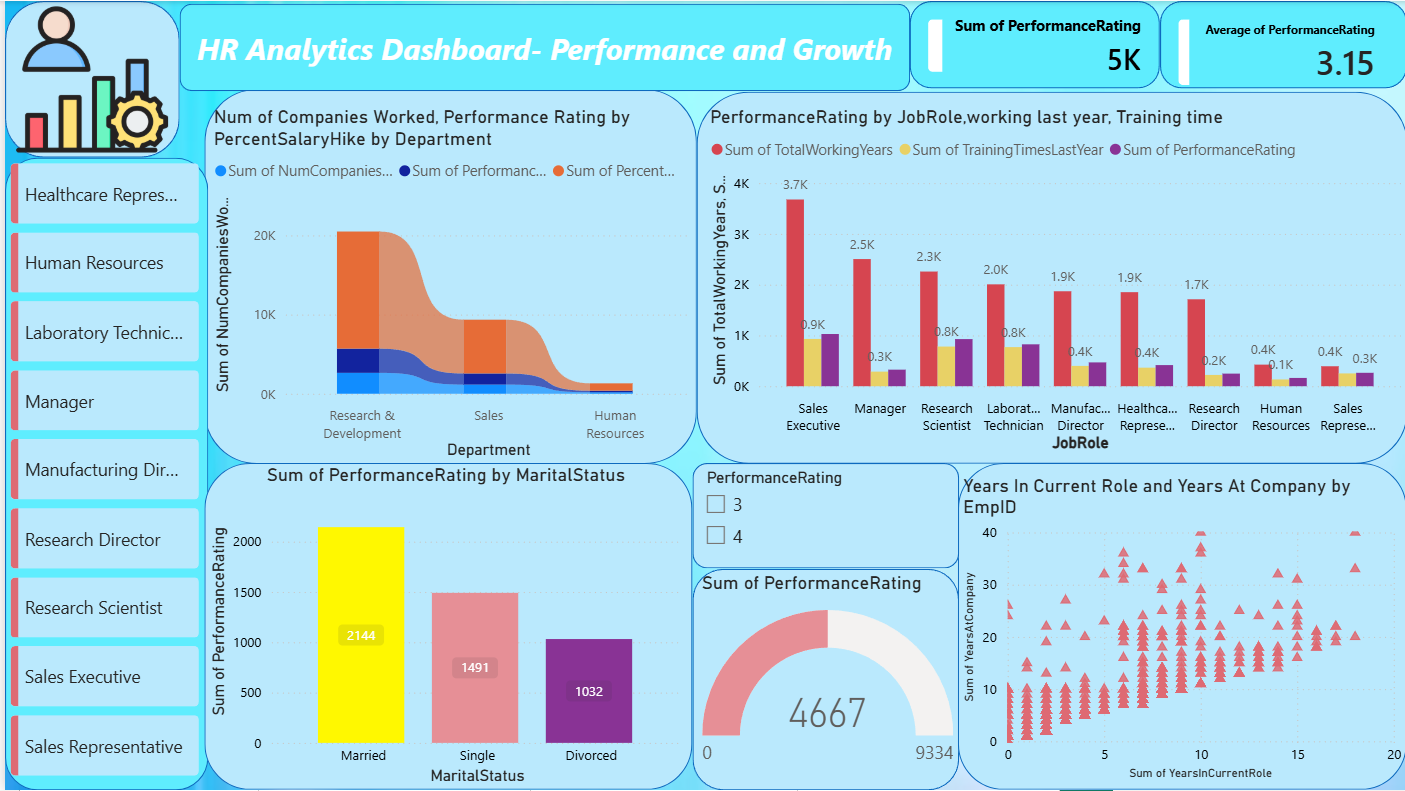

This screenshot's page, from the dashboard's own definition file:
{"tool":"powerbi","page":{"name":"Performamance and Growth","canvas":[1280,720],"ordinal":2},"visuals":[{"type":"shape","box":[181.5,79.8,449.7,342.4],"z":0},{"type":"shape","box":[627.1,518.5,243.4,202.2],"z":1000},{"type":"shape","box":[0,143,185.7,577.6],"z":2000},{"type":"shape","box":[159.5,2.8,667,79.8],"z":3000},{"type":"shape","box":[0,0,159.5,143],"z":4000},{"type":"shape","box":[181.5,422.2,445.6,298.4],"z":5000},{"type":"shape","box":[826.5,0,228.3,79.8],"z":6000},{"type":"image","box":[0,0,159.5,143],"z":7000},{"type":"clusteredColumnChart","fields":{"Y":["Sum(HR_Analytics.PerformanceRating)"],"Category":["HR_Analytics.MaritalStatus"]},"box":[181.5,422.2,441.5,298.4],"z":8000},{"type":"shape","box":[1054.8,0,225.5,79.8],"z":9000},{"type":"cardVisual","fields":{"Data":["Sum(HR_Analytics.PerformanceRating)"]},"box":[826.5,0,228.3,82.5],"z":10000},{"type":"cardVisual","fields":{"Data":["Avg(HR_Analytics.PerformanceRating)"]},"box":[1054.8,0,225.5,94.9],"z":11000},{"type":"gauge","fields":{"Y":["Sum(HR_Analytics.PerformanceRating)"]},"box":[631.3,521.2,239.3,196.7],"z":12000},{"type":"shape","box":[631.3,82.5,649.1,339.7],"z":13000},{"type":"ribbonChart","title":"Num of Companies Worked, Performance Rating by PercentSalaryHike by Department","fields":{"Category":["HR_Analytics.Department"],"Y":["Sum(HR_Analytics.NumCompaniesWorked)","Sum(HR_Analytics.PerformanceRating)","Sum(HR_Analytics.PercentSalaryHike)"]},"box":[185.7,94.9,445.6,327.3],"z":14000},{"type":"clusteredColumnChart","title":" PerformanceRating by JobRole,working last year, Training time","fields":{"Y":["Sum(HR_Analytics.TotalWorkingYears)","Sum(HR_Analytics.TrainingTimesLastYear)","Sum(HR_Analytics.PerformanceRating)"],"Category":["HR_Analytics.JobRole"]},"box":[639.5,94.9,640.9,320.4],"z":15000},{"type":"shape","box":[870.5,422.2,409.8,298.4],"z":16000},{"type":"shape","box":[627.1,422.2,243.4,96.3],"z":17000},{"type":"scatterChart","title":"Years In Current Role and Years At Company by EmpID","fields":{"X":["Sum(HR_Analytics.YearsInCurrentRole)"],"Y":["Sum(HR_Analytics.YearsAtCompany)"],"Category":["HR_Analytics.EmpID"]},"box":[870.5,431.8,409.8,283.3],"z":18000},{"type":"slicer","fields":{"Values":["HR_Analytics.PerformanceRating"]},"box":[627.1,422.2,243.4,96.3],"z":19000},{"type":"advancedSlicerVisual","fields":{"Values":["HR_Analytics.JobRole"]},"box":[0,143,182.9,574.9],"z":20000}]}

Visuals, with their boxes in screenshot pixels (x1, y1, x2, y2), scaled from the page's 1280x720 canvas onto the 1405x791 screenshot:
shape: [199,88,693,464]
shape: [688,570,956,790]
shape: [0,157,204,790]
shape: [175,3,907,91]
shape: [0,0,175,157]
shape: [199,464,688,790]
shape: [907,0,1158,88]
image: [0,0,175,157]
clusteredColumnChart - Sum(HR_Analytics.PerformanceRating) x HR_Analytics.MaritalStatus: [199,464,684,790]
shape: [1158,0,1404,88]
cardVisual - Sum(HR_Analytics.PerformanceRating): [907,0,1158,91]
cardVisual - Avg(HR_Analytics.PerformanceRating): [1158,0,1404,104]
gauge - Sum(HR_Analytics.PerformanceRating): [693,573,956,789]
shape: [693,91,1404,464]
"Num of Companies Worked, Performance Rating by PercentSalaryHike by Department" ribbonChart: [204,104,693,464]
" PerformanceRating by JobRole,working last year, Training time" clusteredColumnChart: [702,104,1404,456]
shape: [956,464,1404,790]
shape: [688,464,956,570]
"Years In Current Role and Years At Company by EmpID" scatterChart: [956,474,1404,786]
slicer - HR_Analytics.PerformanceRating: [688,464,956,570]
advancedSlicerVisual - HR_Analytics.JobRole: [0,157,201,789]
